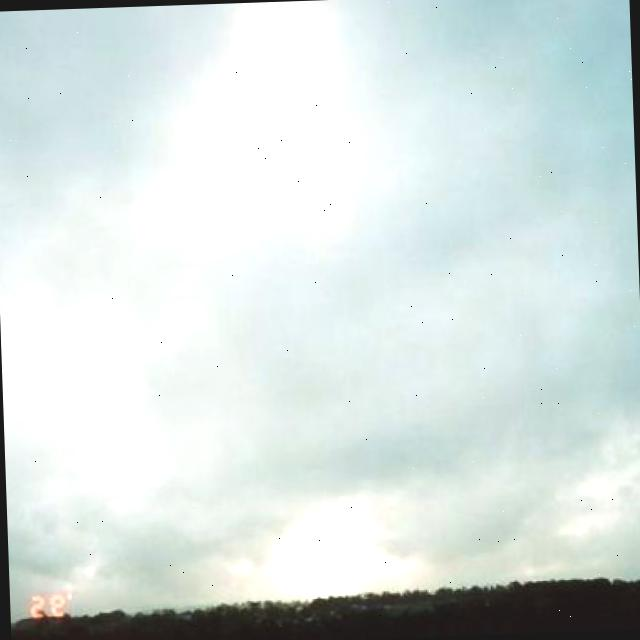St: (1, 17, 640, 540)
